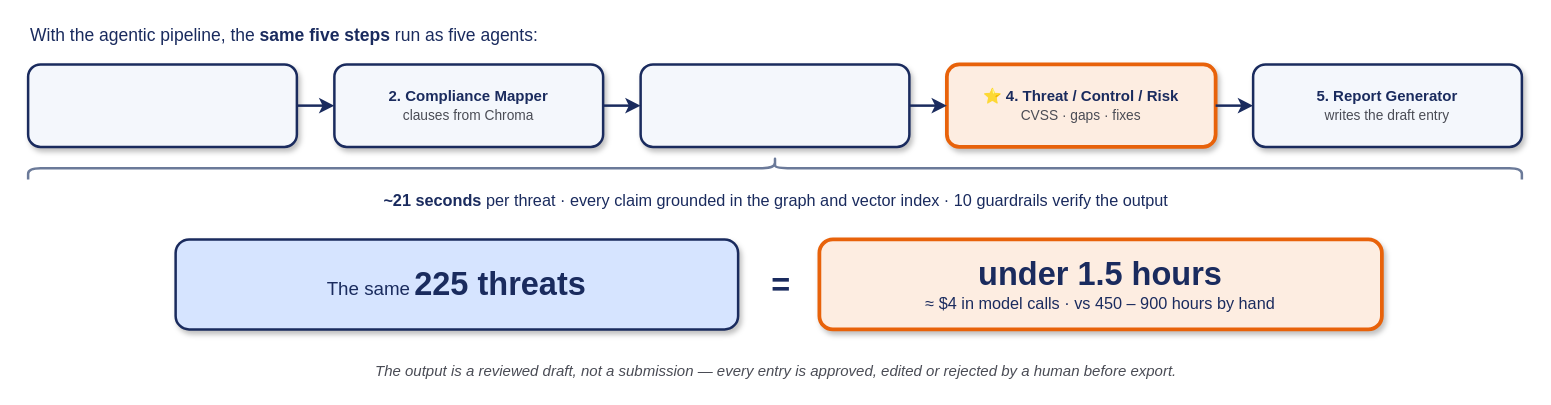
The diagram is 1551 pixels wide and 405 high, and some of its shapes have lost their labels. Here are the shapes that lost their labels. From the top down, the centre of each, then its label:
At point (163, 107): "1. Ingestion threat queue from Kuzu".
At point (776, 107): "3. Code Analysis grep over firmware".
